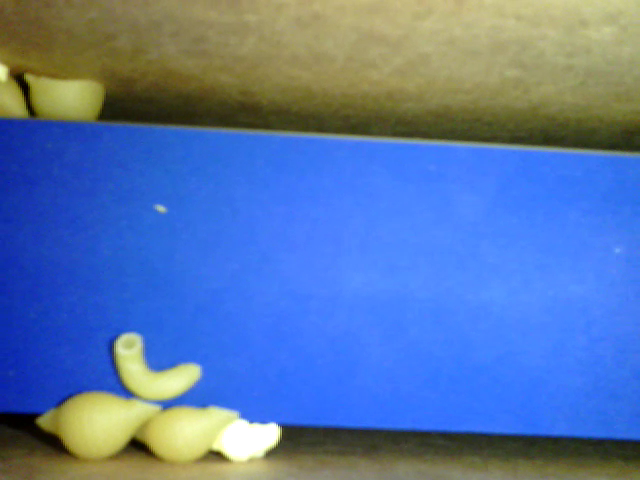elbow: (115, 333, 204, 399)
shell: (35, 391, 160, 461), (133, 402, 242, 462), (25, 71, 106, 123)
